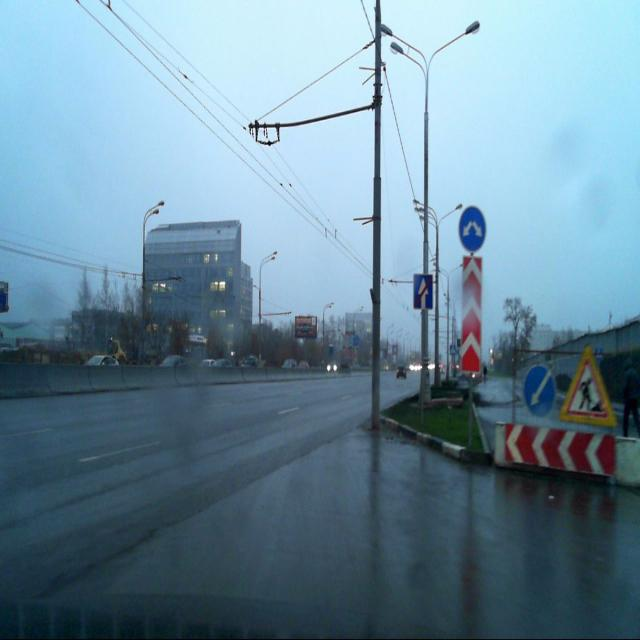object: (505, 426, 616, 474), (462, 256, 482, 379), (420, 314, 426, 430)
road sign: (558, 345, 616, 429), (414, 273, 434, 310)
